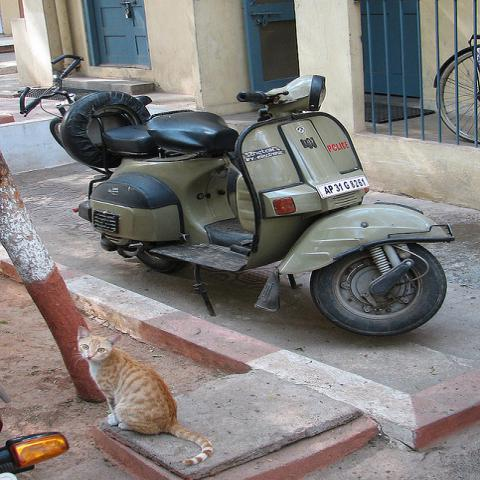motorcycle: (61, 77, 462, 338)
